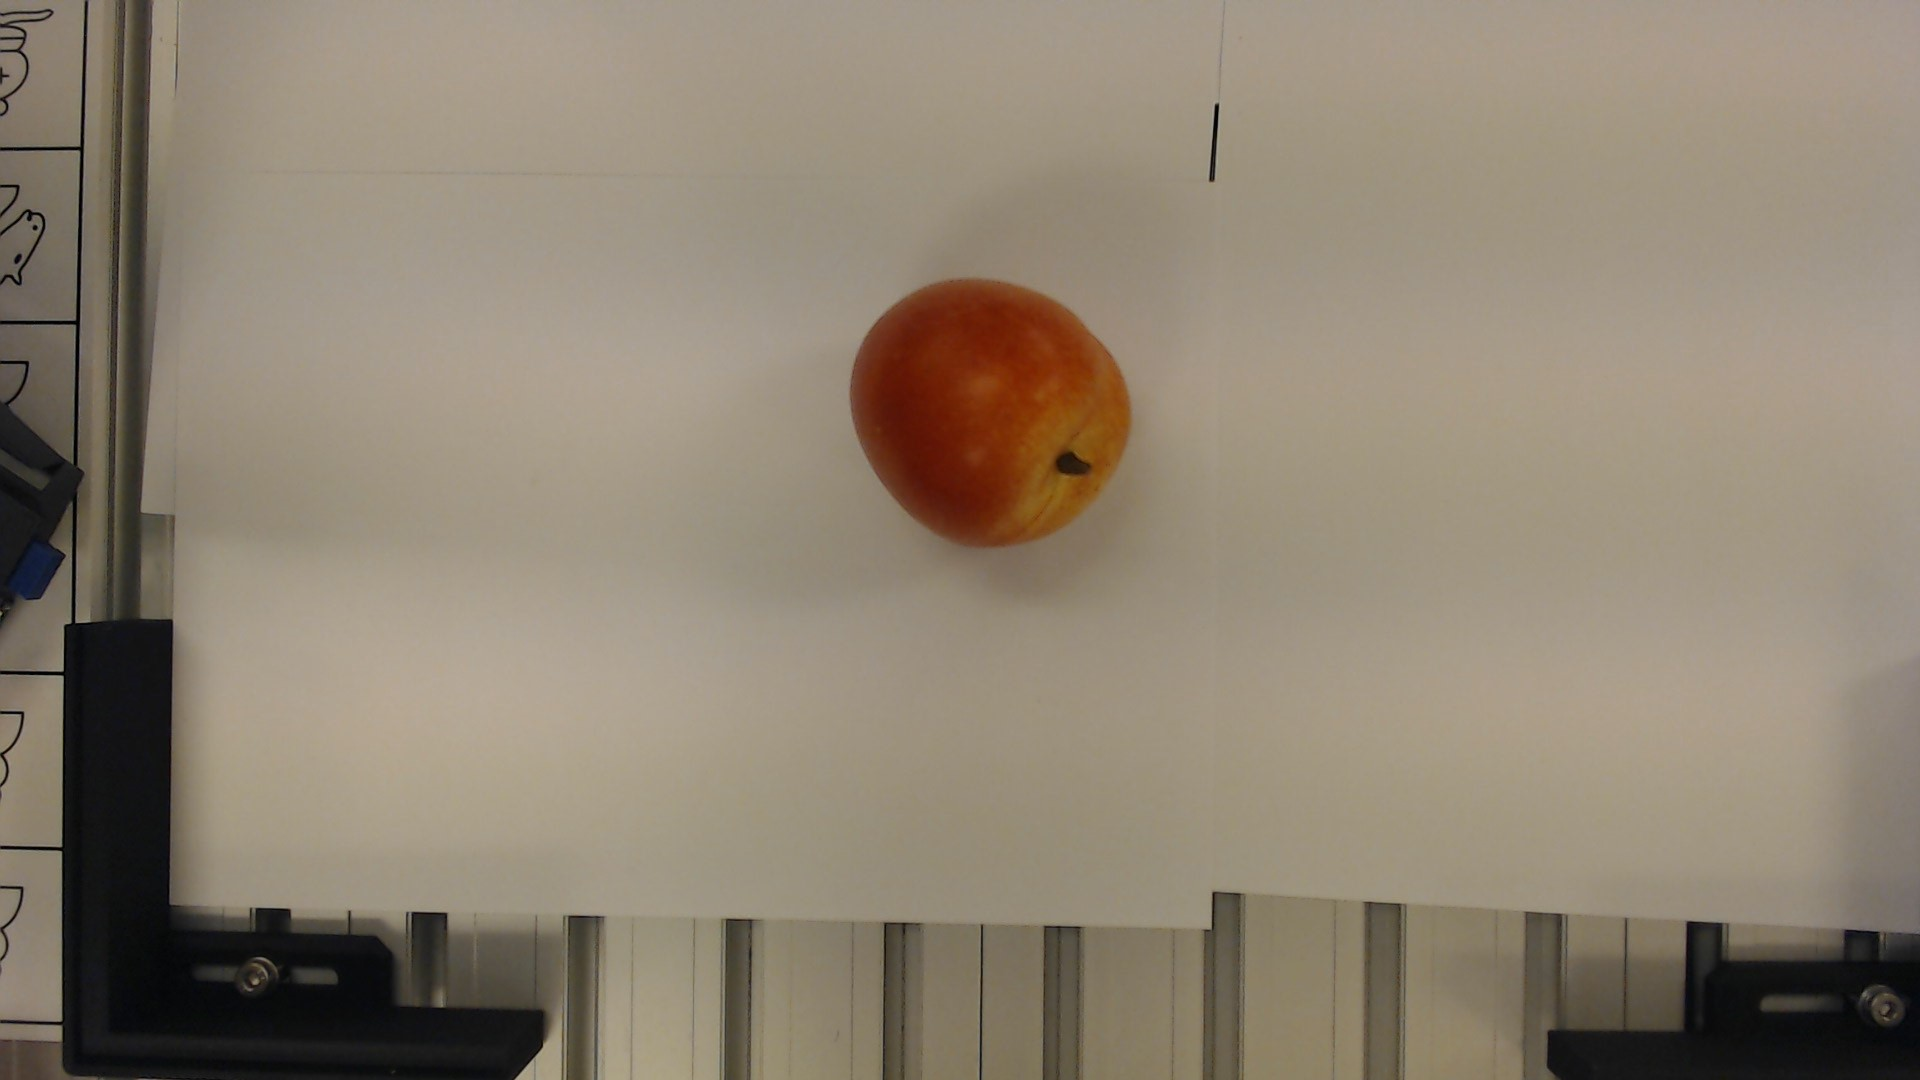Peach: (845, 280, 1150, 553)
